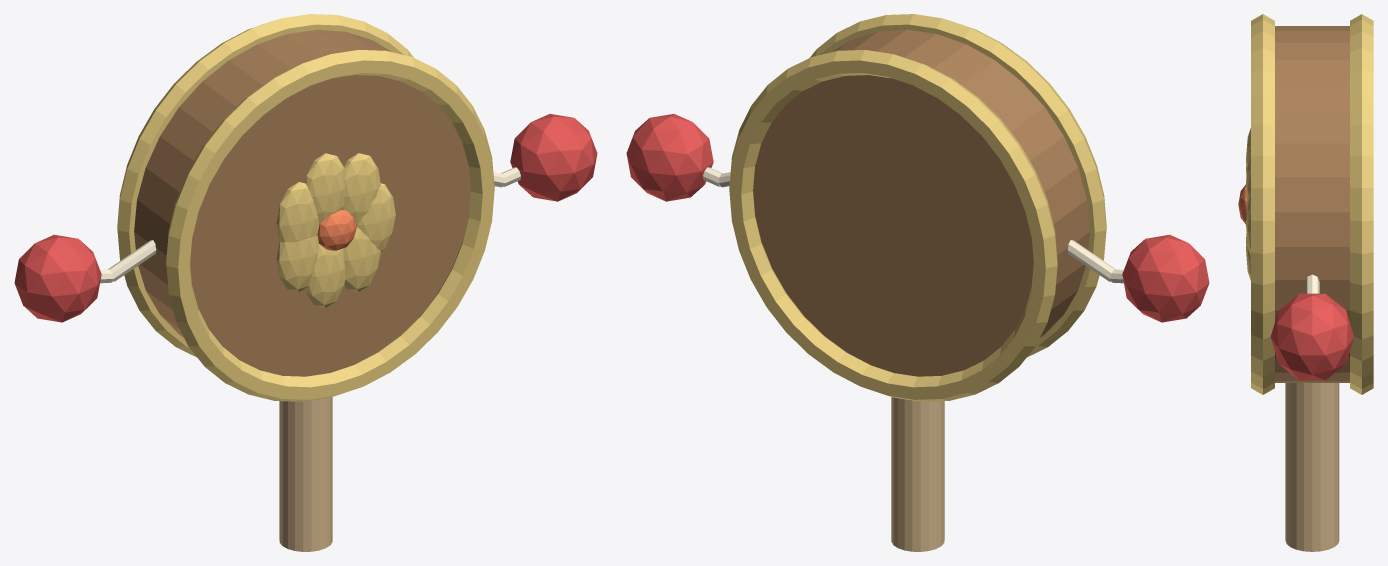
The model's file is folk_denden_daiko.glb.
3 views of the same model, side by side, from view 1: azimuth 30°, elevation 25°; view 2: azimuth 150°, elevation 25°; view 3: azimuth 270°, elevation 25° (orthographic).
Parts seen in each view (by area): view 1: Denden daiko miniature barrel, Taut drum skin rim, Taut drum skin rim.001, Carved handle, Lacquer rattle bead, Lacquer rattle bead.001, Painted drum emblem_petal02, Painted drum emblem_petal03, Painted drum emblem_petal01, Painted drum emblem_petal04, Painted drum emblem_petal05, Painted drum emblem_petal06 (+3 smaller); view 2: Denden daiko miniature barrel, Taut drum skin rim.001, Taut drum skin rim, Carved handle, Lacquer rattle bead, Lacquer rattle bead.001, Beater hanging string_00; view 3: Denden daiko miniature barrel, Carved handle, Taut drum skin rim.001, Taut drum skin rim, Lacquer rattle bead.001, Painted drum emblem_center, Beater hanging string_00.001, Painted drum emblem_petal00, Painted drum emblem_petal01.
Boxes of the visible parts, x1,y1,x2,y2 form: Denden daiko miniature barrel: (134,29,470,376); Taut drum skin rim: (166,50,494,401); Taut drum skin rim.001: (117,14,413,357); Carved handle: (279,397,332,551); Lacquer rattle bead: (14,234,101,322); Lacquer rattle bead.001: (510,114,597,201); Painted drum emblem_petal02: (305,153,345,222); Painted drum emblem_petal03: (276,182,319,242); Painted drum emblem_petal01: (342,153,380,225); Painted drum emblem_petal04: (276,235,319,292); Painted drum emblem_petal05: (305,244,345,307); Painted drum emblem_petal06: (343,227,380,291); Denden daiko miniature barrel: (753,29,1089,376); Taut drum skin rim.001: (729,50,1057,401); Taut drum skin rim: (810,14,1106,357); Carved handle: (891,397,944,551); Lacquer rattle bead: (1122,234,1209,322); Lacquer rattle bead.001: (626,114,713,201); Beater hanging string_00: (1067,240,1115,281); Denden daiko miniature barrel: (1275,26,1349,382); Carved handle: (1285,383,1339,551); Taut drum skin rim.001: (1350,14,1373,394); Taut drum skin rim: (1251,14,1274,394); Lacquer rattle bead.001: (1270,293,1353,380); Painted drum emblem_center: (1238,184,1247,224); Beater hanging string_00.001: (1305,274,1319,293); Painted drum emblem_petal00: (1246,193,1250,255); Painted drum emblem_petal01: (1246,152,1250,203).
Size of the model in its own units: 1.95 by 1.65 by 0.3973.
